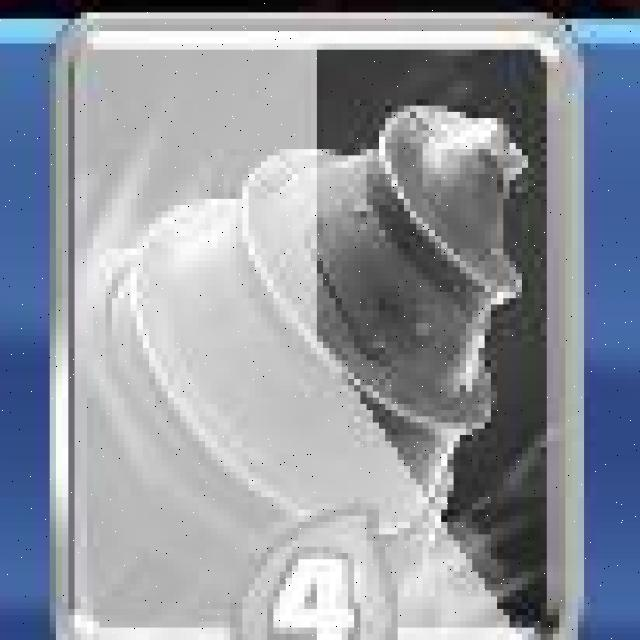Goblin_Drill: (52, 10, 581, 640)
